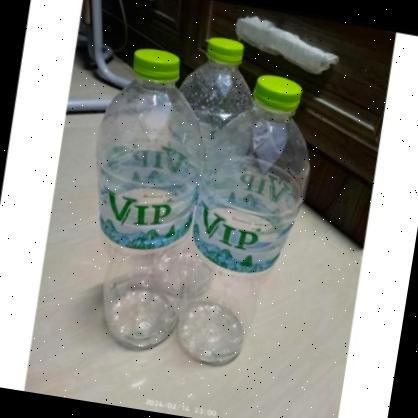bottle: (64, 38, 220, 354), (172, 64, 326, 372)
cap: (250, 70, 306, 115), (130, 44, 184, 88), (201, 34, 249, 69)
label: (188, 154, 307, 278), (83, 139, 203, 251)
